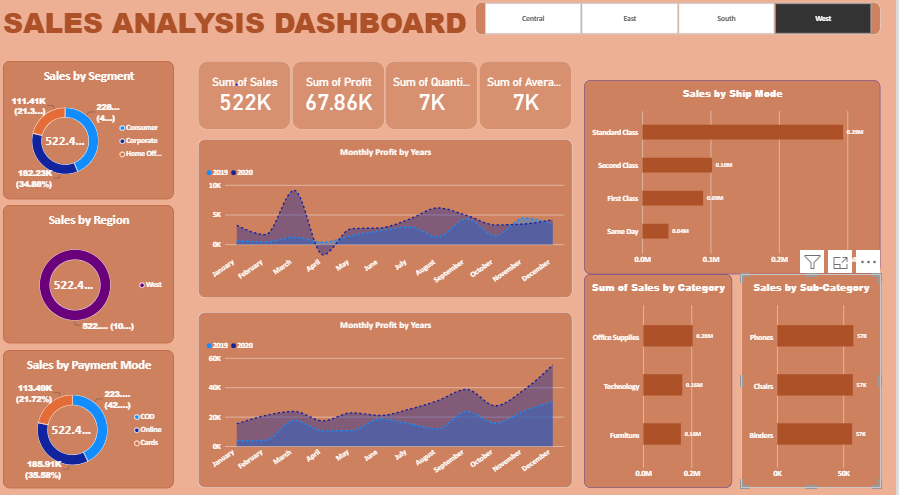

Layout of this report page (visuals, bound fields, positions):
{"tool":"powerbi","page":{"name":"Page 1","canvas":[1920,1080],"ordinal":0},"visuals":[{"type":"barChart","fields":{"Category":["Sheet1.Category"],"Y":["Sum(Sheet1.Sales)"]},"box":[1259.6,602.1,314.9,455.3],"z":0},{"type":"barChart","title":"Sales by Sub-Category","fields":{"Category":["Sheet1.Sub-Category"],"Y":["Sum(Sheet1.Sales)"]},"box":[1591.5,602.1,297.9,455.3],"z":1000},{"type":"barChart","title":"Sales by Ship Mode","fields":{"Category":["Sheet1.Ship Mode"],"Y":["Sum(Sheet1.Sales)"]},"box":[1259.6,148.9,629.8,412.8],"z":2000},{"type":"areaChart","title":"Monthly Profit by Years","fields":{"Category":["Sheet1.Order Date.Variation.Date Hierarchy.Month","Sheet1.Order Date.Variation.Date Hierarchy.Day"],"Series":["Sheet1.Order Date.Variation.Date Hierarchy.Year"],"Y":["Sum(Sheet1.Profit)"]},"box":[438.3,314.9,795.7,338.3],"z":3000},{"type":"donutChart","title":"Sales by Segment","fields":{"Category":["Sheet1.Segment"],"Y":["Sum(Sheet1.Sales)"]},"box":[24.2,148.5,363.3,293.9],"z":4000},{"type":"donutChart","title":"Sales by Region","fields":{"Category":["Sheet1.Region"],"Y":["Sum(Sheet1.Sales)"]},"box":[24.2,454.5,363.3,293.9],"z":5000},{"type":"donutChart","title":"Sales by Payment Mode","fields":{"Category":["Sheet1.Payment Mode"],"Y":["Sum(Sheet1.Sales)"]},"box":[24.2,763.6,363.3,293.9],"z":6000},{"type":"slicer","fields":{"Values":["Sheet1.Region"]},"box":[1027.7,23.4,861.7,70.2],"z":7000},{"type":"areaChart","title":"Monthly Profit by Years","fields":{"Category":["Sheet1.Order Date.Variation.Date Hierarchy.Month","Sheet1.Order Date.Variation.Date Hierarchy.Day"],"Series":["Sheet1.Order Date.Variation.Date Hierarchy.Year"],"Y":["Sum(Sheet1.Sales)"]},"box":[438.3,683,795.7,374.5],"z":8000},{"type":"cardVisual","fields":{"Data":["Sum(Sheet1.Sales)"]},"box":[438.3,148.9,197.9,146.8],"z":9000},{"type":"cardVisual","fields":{"Data":["Sum(Sheet1.Profit)"]},"box":[638.3,148.9,197.9,146.8],"z":10000},{"type":"cardVisual","fields":{"Data":["Sum(Sheet1.Quantity)"]},"box":[836.2,148.9,197.9,146.8],"z":11000},{"type":"cardVisual","fields":{"Data":["Sum(Sheet1.AverageDelivery)"]},"box":[1036.2,148.9,197.9,146.8],"z":12000},{"type":"textbox","box":[23.4,23.4,1004.3,89.4],"z":12001}]}

Visuals, with their boxes in screenshot pixels (x1, y1, x2, y2), scaled from the page's 1920x1080 canvas onto the 899x495 screenshot:
barChart - Sheet1.Category x Sum(Sheet1.Sales): bbox=(590, 276, 737, 485)
"Sales by Sub-Category" barChart: bbox=(745, 276, 885, 485)
"Sales by Ship Mode" barChart: bbox=(590, 68, 885, 257)
"Monthly Profit by Years" areaChart: bbox=(205, 144, 578, 299)
"Sales by Segment" donutChart: bbox=(11, 68, 181, 203)
"Sales by Region" donutChart: bbox=(11, 208, 181, 343)
"Sales by Payment Mode" donutChart: bbox=(11, 350, 181, 485)
slicer - Sheet1.Region: bbox=(481, 11, 885, 43)
"Monthly Profit by Years" areaChart: bbox=(205, 313, 578, 485)
cardVisual - Sum(Sheet1.Sales): bbox=(205, 68, 298, 136)
cardVisual - Sum(Sheet1.Profit): bbox=(299, 68, 392, 136)
cardVisual - Sum(Sheet1.Quantity): bbox=(392, 68, 484, 136)
cardVisual - Sum(Sheet1.AverageDelivery): bbox=(485, 68, 578, 136)
textbox: bbox=(11, 11, 481, 52)
